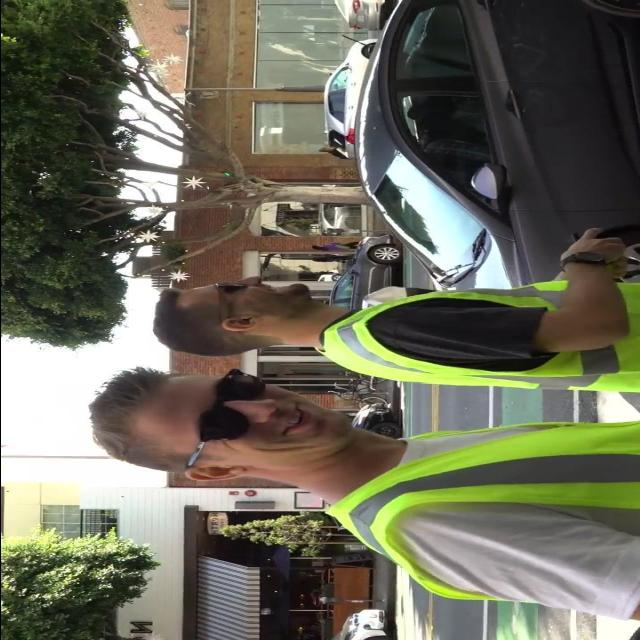jacket: (314, 419, 634, 618), (314, 270, 640, 404)
